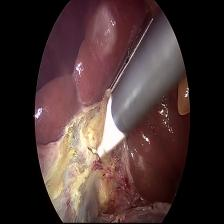Grasper: (105, 11, 155, 98)
Hook: (81, 101, 126, 167)
